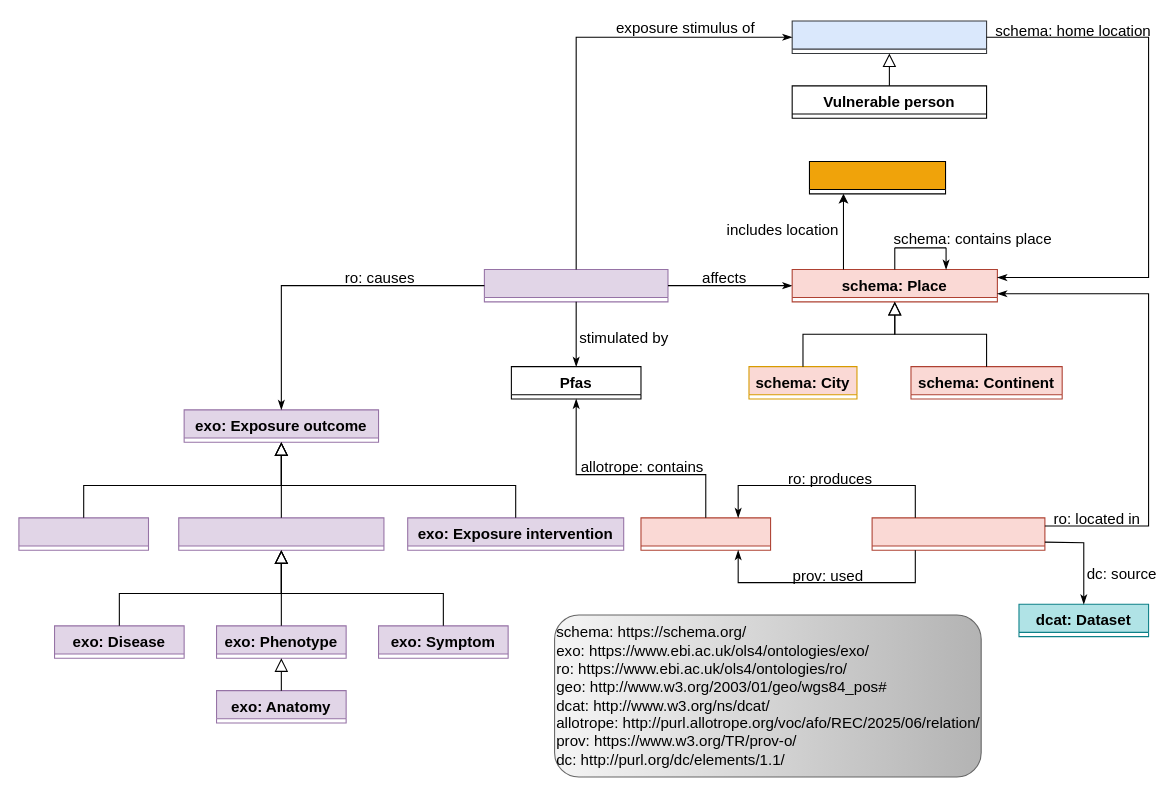
Some shapes in this 1176 by 796 pixel diagram are drawn without their labels. The shapes that lost their labels are listed below. From the top down, each one's centre as x and y in pixels, then its label:
pixel 889 36: schema: Person
pixel 877 177: geo: Location
pixel 575 285: exo: Exposure stimulus
pixel 83 533: exo: Dose
pixel 281 533: exo: Biological response
pixel 705 533: schema: Product
pixel 958 533: schema: Organization
